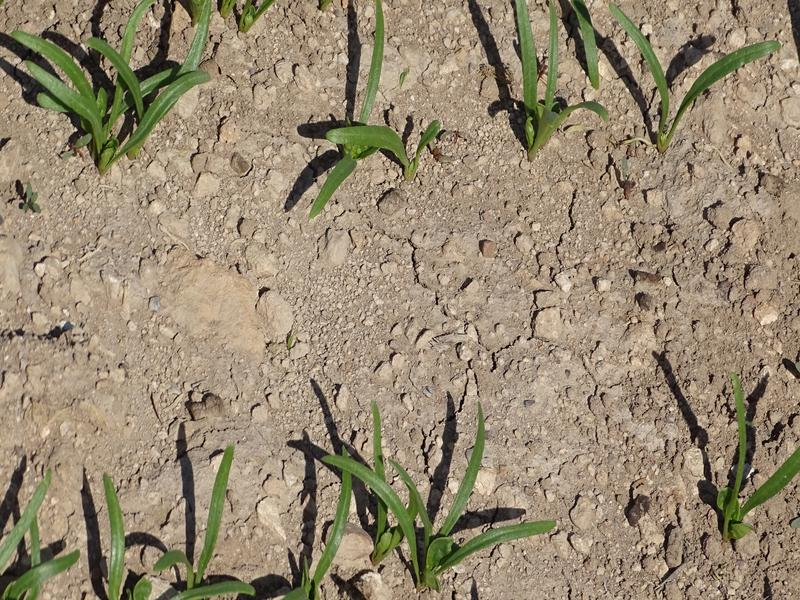Espinaca: (313, 397, 551, 589), (1, 1, 215, 181), (297, 9, 433, 222), (611, 6, 783, 154), (506, 1, 596, 165), (715, 375, 800, 534), (164, 444, 248, 600), (1, 461, 72, 598), (102, 471, 156, 600)
